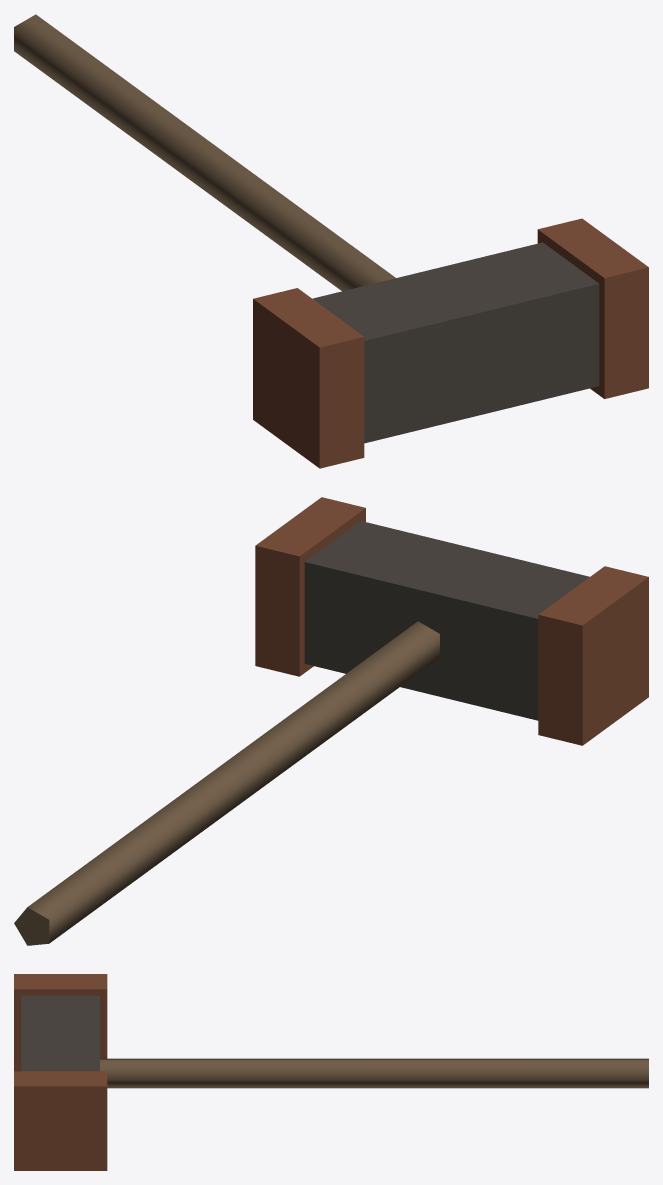
3 views of the same model, one above another, from view 1: azimuth 30°, elevation 25°; view 2: azimuth 150°, elevation 25°; view 3: azimuth 270°, elevation 25° (orthographic). The views are drawn at different scales.
Parts seen in each view (by area): view 1: raider_tool_hammer; view 2: raider_tool_hammer; view 3: raider_tool_hammer.
Boxes of the visible parts, <box> form: raider_tool_hammer: <box>14,14,648,468</box>; raider_tool_hammer: <box>14,497,648,945</box>; raider_tool_hammer: <box>14,974,648,1170</box>.
Bounding box in the file's own units: 0.37 × 0.13 × 0.885.
